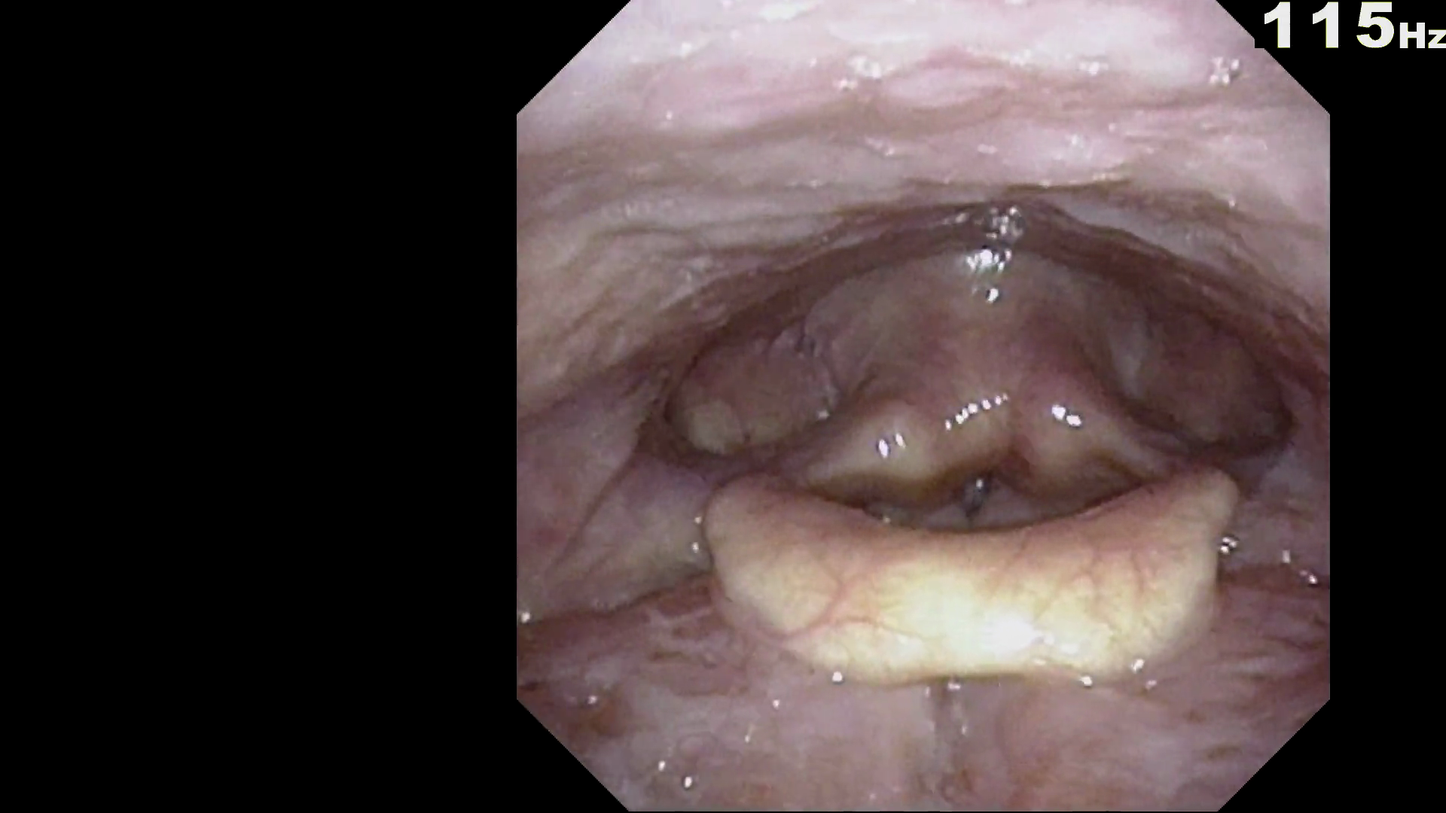epiglottis: (675, 443, 1275, 697)
trachea: (919, 429, 1023, 556)
